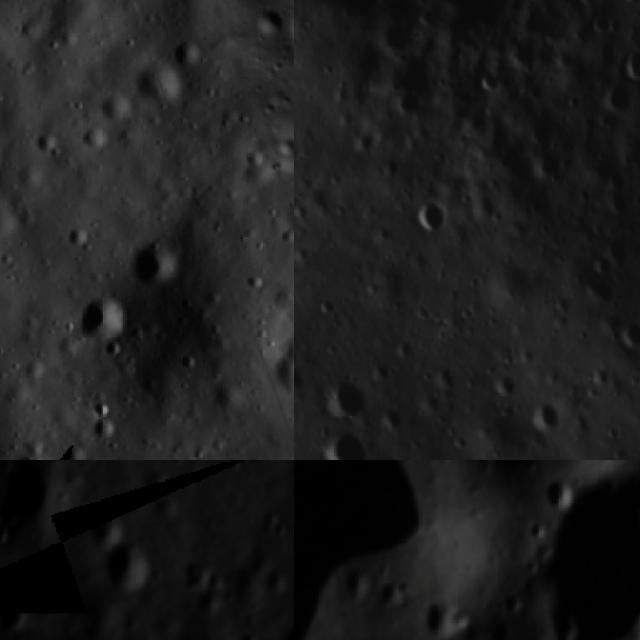crater: (517, 471, 640, 640), (0, 460, 72, 547), (61, 282, 132, 351), (119, 233, 187, 291), (102, 535, 162, 599), (319, 364, 371, 423), (84, 494, 128, 559), (325, 418, 382, 460), (420, 597, 468, 640), (522, 398, 568, 441), (593, 75, 637, 117), (0, 594, 42, 636), (411, 190, 448, 235), (542, 473, 582, 514), (614, 306, 640, 363), (172, 27, 212, 64), (389, 84, 426, 120), (96, 333, 129, 364), (619, 43, 640, 80), (265, 615, 294, 640), (230, 632, 264, 640)
